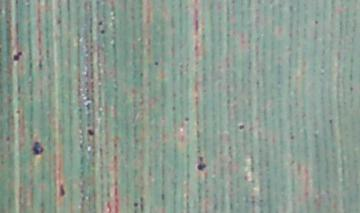tarspot: (31, 138, 43, 158), (196, 155, 207, 172), (10, 49, 24, 62), (193, 39, 200, 61), (226, 143, 234, 160), (193, 17, 200, 36), (58, 182, 65, 198), (139, 194, 144, 213), (132, 200, 139, 213), (254, 78, 261, 91), (37, 58, 44, 71), (326, 116, 334, 126), (183, 114, 191, 124), (288, 132, 296, 141), (193, 6, 199, 18), (289, 156, 295, 168), (86, 127, 93, 137), (14, 108, 22, 116), (312, 18, 320, 26), (159, 192, 166, 201), (55, 17, 62, 26), (237, 123, 244, 131), (347, 84, 355, 91), (99, 27, 106, 35), (95, 20, 104, 26), (170, 104, 176, 112), (313, 131, 319, 138), (139, 71, 144, 79), (153, 61, 159, 67), (5, 135, 10, 142), (35, 1, 41, 6), (14, 1, 19, 6), (194, 1, 198, 5)
